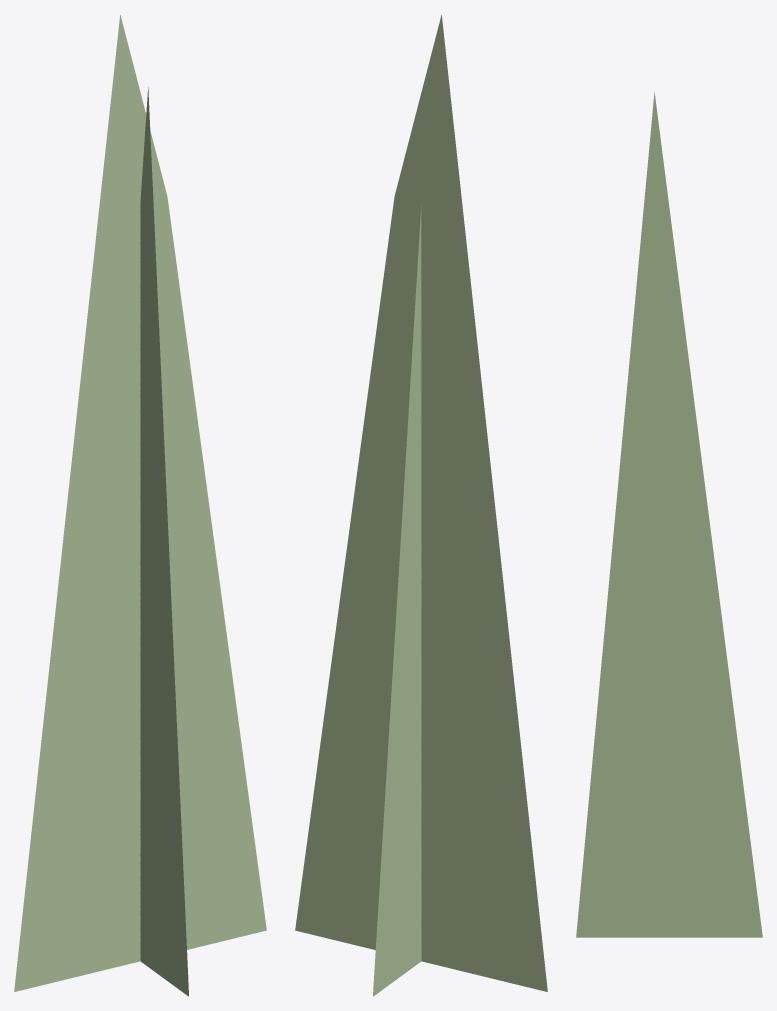
The model's file is grass-blade.glb.
The picture shows the model from 3 angles, left to right: view 1: azimuth 30°, elevation 25°; view 2: azimuth 150°, elevation 25°; view 3: azimuth 270°, elevation 25°; orthographic projection. The views are drawn at different scales.
Visible parts, largest first — view 1: world; view 2: world; view 3: world.
Part boxes in pixels (x1,y1,x2,y2): world: (14,15,266,996); world: (295,15,547,996); world: (576,92,762,937).
Size of the model in its own units: 0.15 by 0.54 by 0.1.
